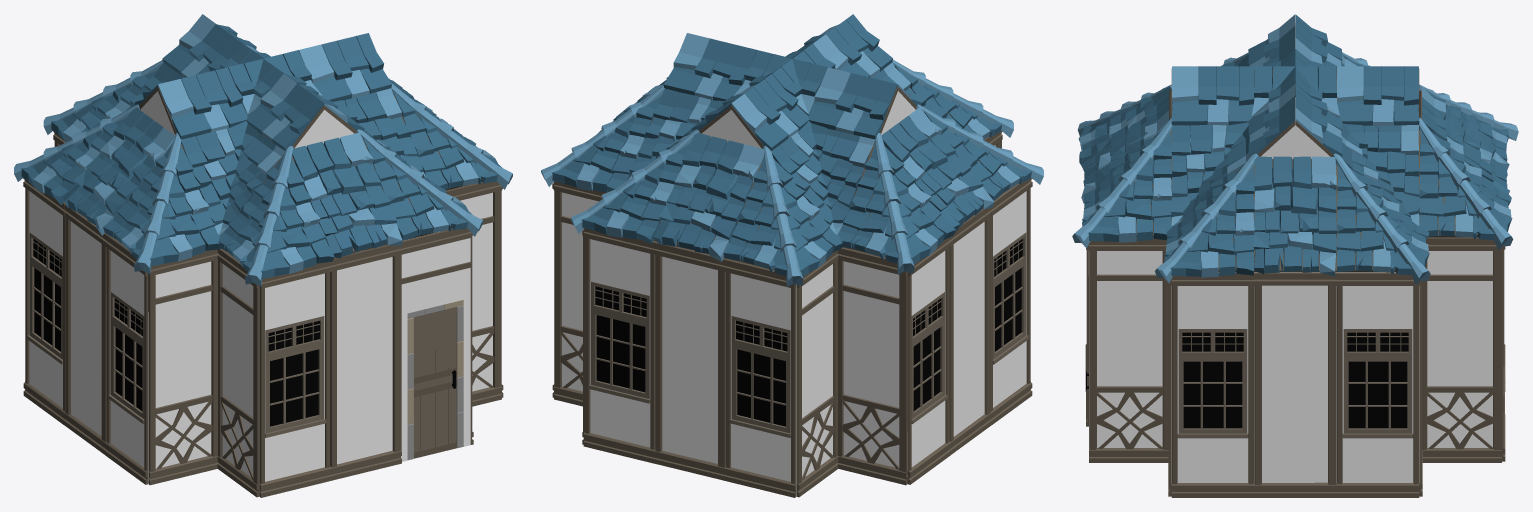
Rendered from House_03_full.glb.
The picture shows the model from 3 angles, left to right: view 1: azimuth 30°, elevation 25°; view 2: azimuth 150°, elevation 25°; view 3: azimuth 270°, elevation 25°; orthographic projection.
Visible parts, largest first — view 1: WALL_03_3, WINDOW_04_3, DOOR_02_2, WALL_04_4, WINDOW_04_4, WALL_03_4, WALL_04_3, WINDOW_04_5, ROOF_base_3, ROOF_corner_out_9, ROOF_corner_out_3, WALL_04_9 (+18 smaller); view 2: WALL_03_5, WINDOW_04_6, WINDOW_04_7, WALL_04_5, WINDOW_04_5, WALL_03_4, WALL_04_6, WINDOW_04_4, ROOF_base_5, ROOF_corner_out_6, ROOF_corner_out_8, WALL_04_8 (+17 smaller); view 3: WINDOW_04_8, WALL_03_6, WINDOW_04_9, WALL_04_7, WALL_04_10, ROOF_base_4, ROOF_corner_out_5, ROOF_corner_out_4, ROOF_corner_out_2, ROOF_corner_out_7, ROOF_inner_corner_3, ROOF_inner_corner_4 (+16 smaller).
Part boxes in pixels (left/top/right/bottom): WALL_03_3: left=330, top=244, right=401, bottom=480; WINDOW_04_3: left=259, top=262, right=331, bottom=497; DOOR_02_2: left=401, top=228, right=472, bottom=461; WALL_04_4: left=148, top=249, right=218, bottom=485; WINDOW_04_4: left=104, top=233, right=148, bottom=484; WALL_03_4: left=64, top=204, right=106, bottom=454; WALL_04_3: left=217, top=248, right=259, bottom=497; WINDOW_04_5: left=23, top=178, right=65, bottom=424; ROOF_base_3: left=292, top=132, right=402, bottom=258; ROOF_corner_out_9: left=103, top=133, right=220, bottom=273; ROOF_corner_out_3: left=218, top=146, right=334, bottom=286; WALL_04_9: left=446, top=181, right=502, bottom=406; WALL_03_5: left=654, top=241, right=725, bottom=480; WINDOW_04_6: left=724, top=258, right=796, bottom=497; WINDOW_04_7: left=583, top=228, right=655, bottom=463; WALL_04_5: left=837, top=247, right=907, bottom=485; WINDOW_04_5: left=907, top=237, right=951, bottom=484; WALL_03_4: left=949, top=208, right=991, bottom=454; WALL_04_6: left=796, top=250, right=838, bottom=497; WINDOW_04_4: left=990, top=178, right=1032, bottom=424; ROOF_base_5: left=653, top=133, right=764, bottom=261; ROOF_corner_out_6: left=723, top=146, right=842, bottom=286; ROOF_corner_out_8: left=838, top=133, right=956, bottom=274; WALL_04_8: left=553, top=181, right=606, bottom=406; WINDOW_04_8: left=1336, top=272, right=1419, bottom=497; WALL_03_6: left=1254, top=272, right=1336, bottom=497; WINDOW_04_9: left=1171, top=272, right=1254, bottom=497; WALL_04_7: left=1422, top=237, right=1501, bottom=462; WALL_04_10: left=1089, top=237, right=1168, bottom=462; ROOF_base_4: left=1253, top=156, right=1336, bottom=276; ROOF_corner_out_5: left=1155, top=153, right=1258, bottom=282; ROOF_corner_out_4: left=1332, top=153, right=1430, bottom=284; ROOF_corner_out_2: left=1072, top=118, right=1172, bottom=248; ROOF_corner_out_7: left=1419, top=117, right=1513, bottom=249; ROOF_inner_corner_3: left=1170, top=122, right=1249, bottom=226; ROOF_inner_corner_4: left=1341, top=122, right=1420, bottom=225.
Bounding box in the file's own units: 5.41 × 4.59 × 5.41.
Materials: 1 (1 with a texture image).
